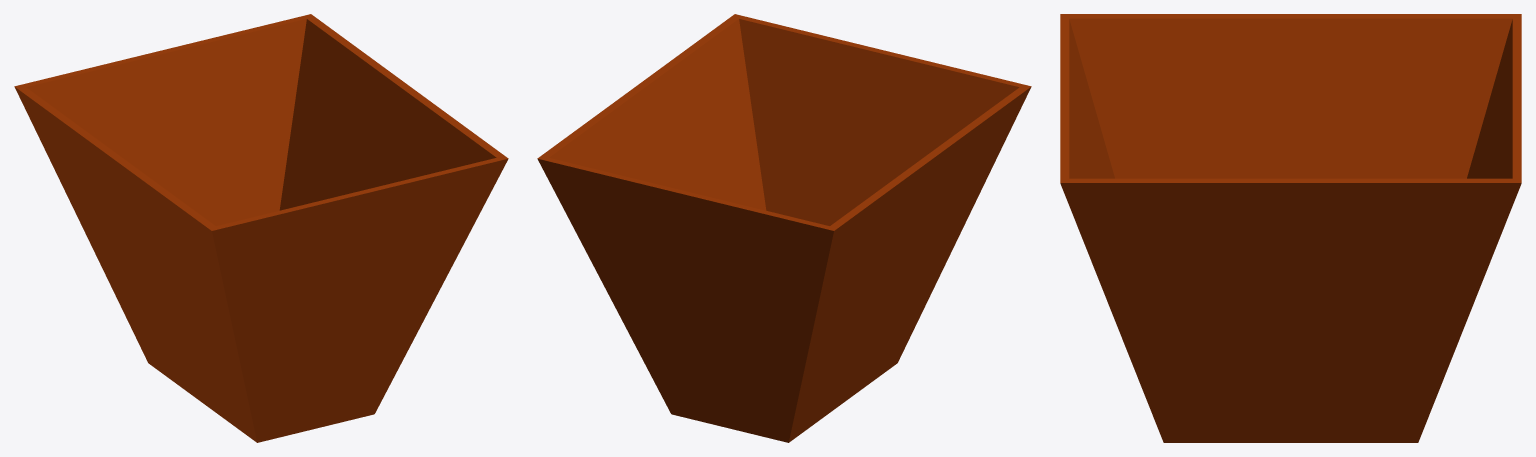
The model's file is Bin.FBX.
The picture shows the model from 3 angles, left to right: view 1: azimuth 30°, elevation 25°; view 2: azimuth 150°, elevation 25°; view 3: azimuth 270°, elevation 25°; orthographic projection. The views are drawn at different scales.
Parts seen in each view (by area): view 1: Box001; view 2: Box001; view 3: Box001.
Boxes of the visible parts, x1=… form: Box001: x1=14, y1=14, x2=508, y2=442; Box001: x1=537, y1=14, x2=1031, y2=442; Box001: x1=1060, y1=14, x2=1521, y2=442.
Size of the model in its own units: 30.43 by 26.08 by 35.09.
